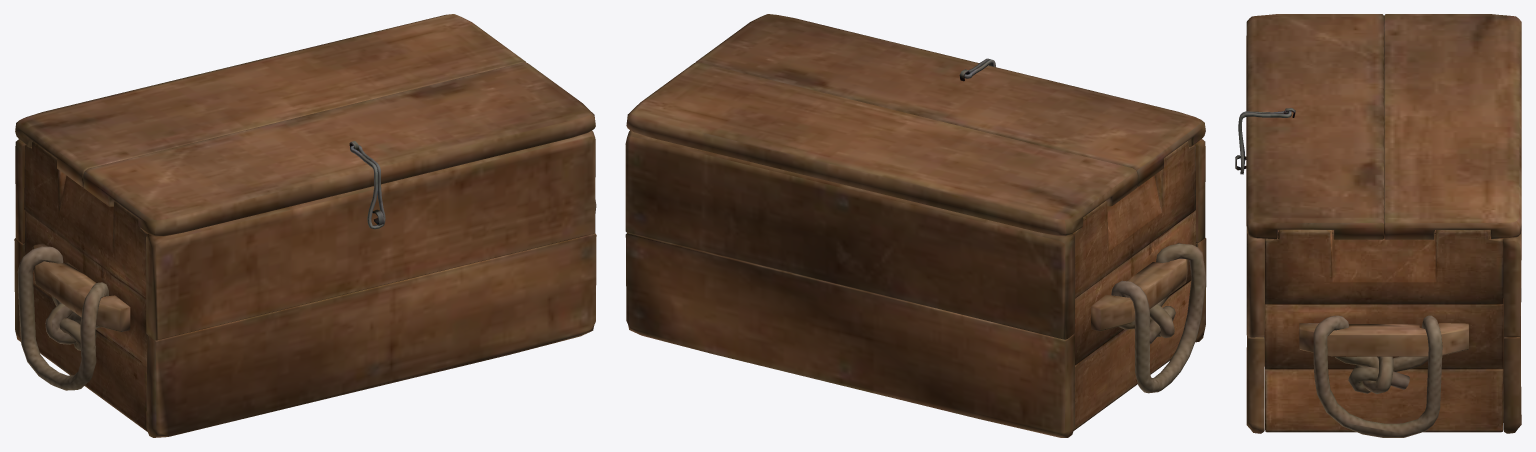
File: crate.glb
The picture shows the model from 3 angles, left to right: view 1: azimuth 30°, elevation 25°; view 2: azimuth 150°, elevation 25°; view 3: azimuth 270°, elevation 25°; orthographic projection. The views are drawn at different scales.
Visible parts, largest first — view 1: wooden_crate_01, wooden_crate_01_lid, wooden_crate_01_latch; view 2: wooden_crate_01, wooden_crate_01_lid; view 3: wooden_crate_01_lid, wooden_crate_01, wooden_crate_01_latch.
Boxes of the visible parts, box(x1,y1,x2,y2) form: wooden_crate_01: box(14, 131, 596, 437); wooden_crate_01_lid: box(15, 14, 595, 236); wooden_crate_01_latch: box(350, 145, 385, 229); wooden_crate_01: box(625, 130, 1206, 437); wooden_crate_01_lid: box(626, 14, 1205, 236); wooden_crate_01_lid: box(1246, 14, 1521, 239); wooden_crate_01: box(1235, 155, 1521, 437); wooden_crate_01_latch: box(1238, 111, 1291, 174).
Bounding box in the file's own units: 0.8253 × 0.3495 × 0.4072.
1 material, 1 textured.
